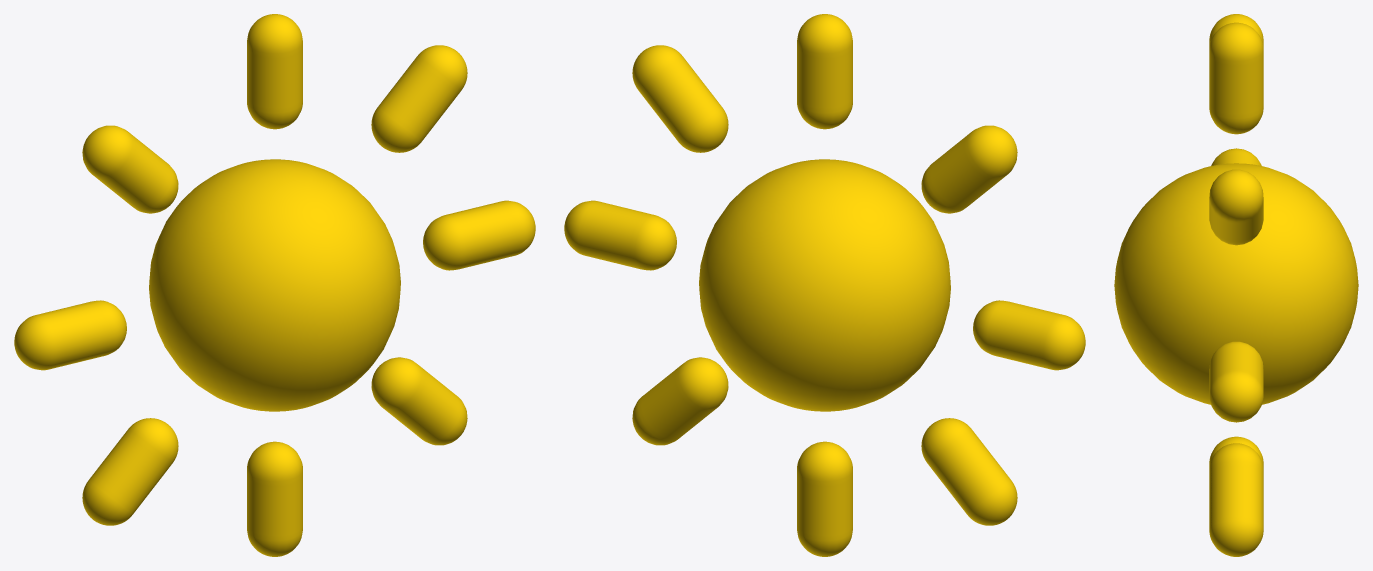
Rendered from sun.glb.
3 renders of one model, left to right at view 1: azimuth 30°, elevation 25°; view 2: azimuth 150°, elevation 25°; view 3: azimuth 270°, elevation 25°, orthographic. The views are drawn at different scales.
Visible parts, largest first — view 1: sun; view 2: sun; view 3: sun.
Boxes of the visible parts, left/top/right/bottom form: sun: left=14, top=14, right=535, bottom=556; sun: left=564, top=14, right=1085, bottom=556; sun: left=1114, top=14, right=1358, bottom=556.
Size of the model in its own units: 31.59 by 31.59 by 13.43.
